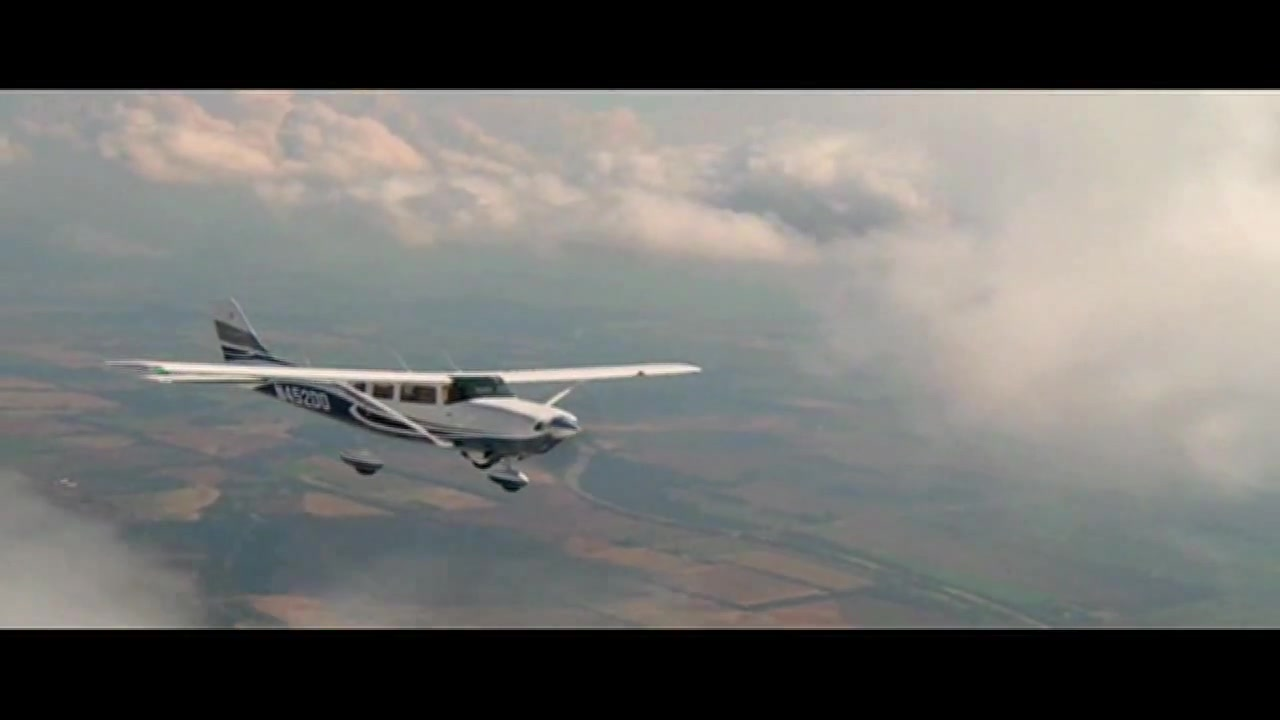aeroplane: (99, 294, 706, 496)
